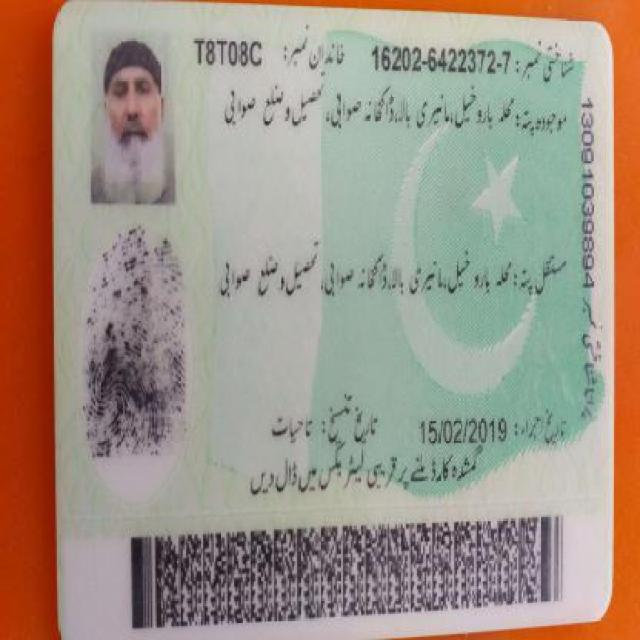Back: (32, 11, 611, 614)
